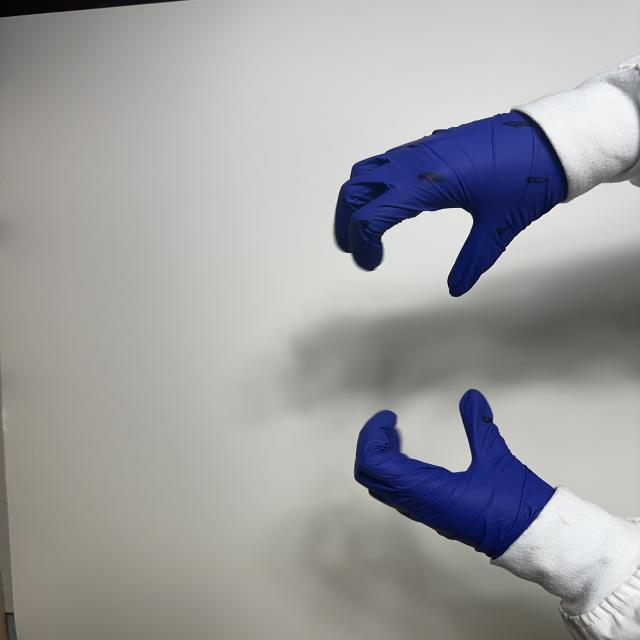gloves_contaminated: (335, 112, 567, 296), (355, 390, 551, 558)
